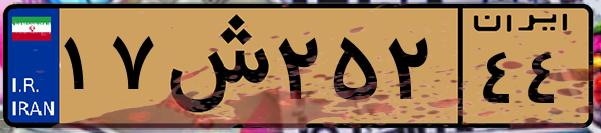1: (57, 26, 110, 100)
2: (270, 28, 330, 110), (385, 28, 445, 110)
4: (475, 38, 525, 113), (525, 38, 570, 115)
5: (330, 28, 385, 110)
7: (110, 28, 158, 98)
ش: (158, 12, 270, 120)
